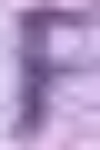F: (0, 0, 99, 149)
